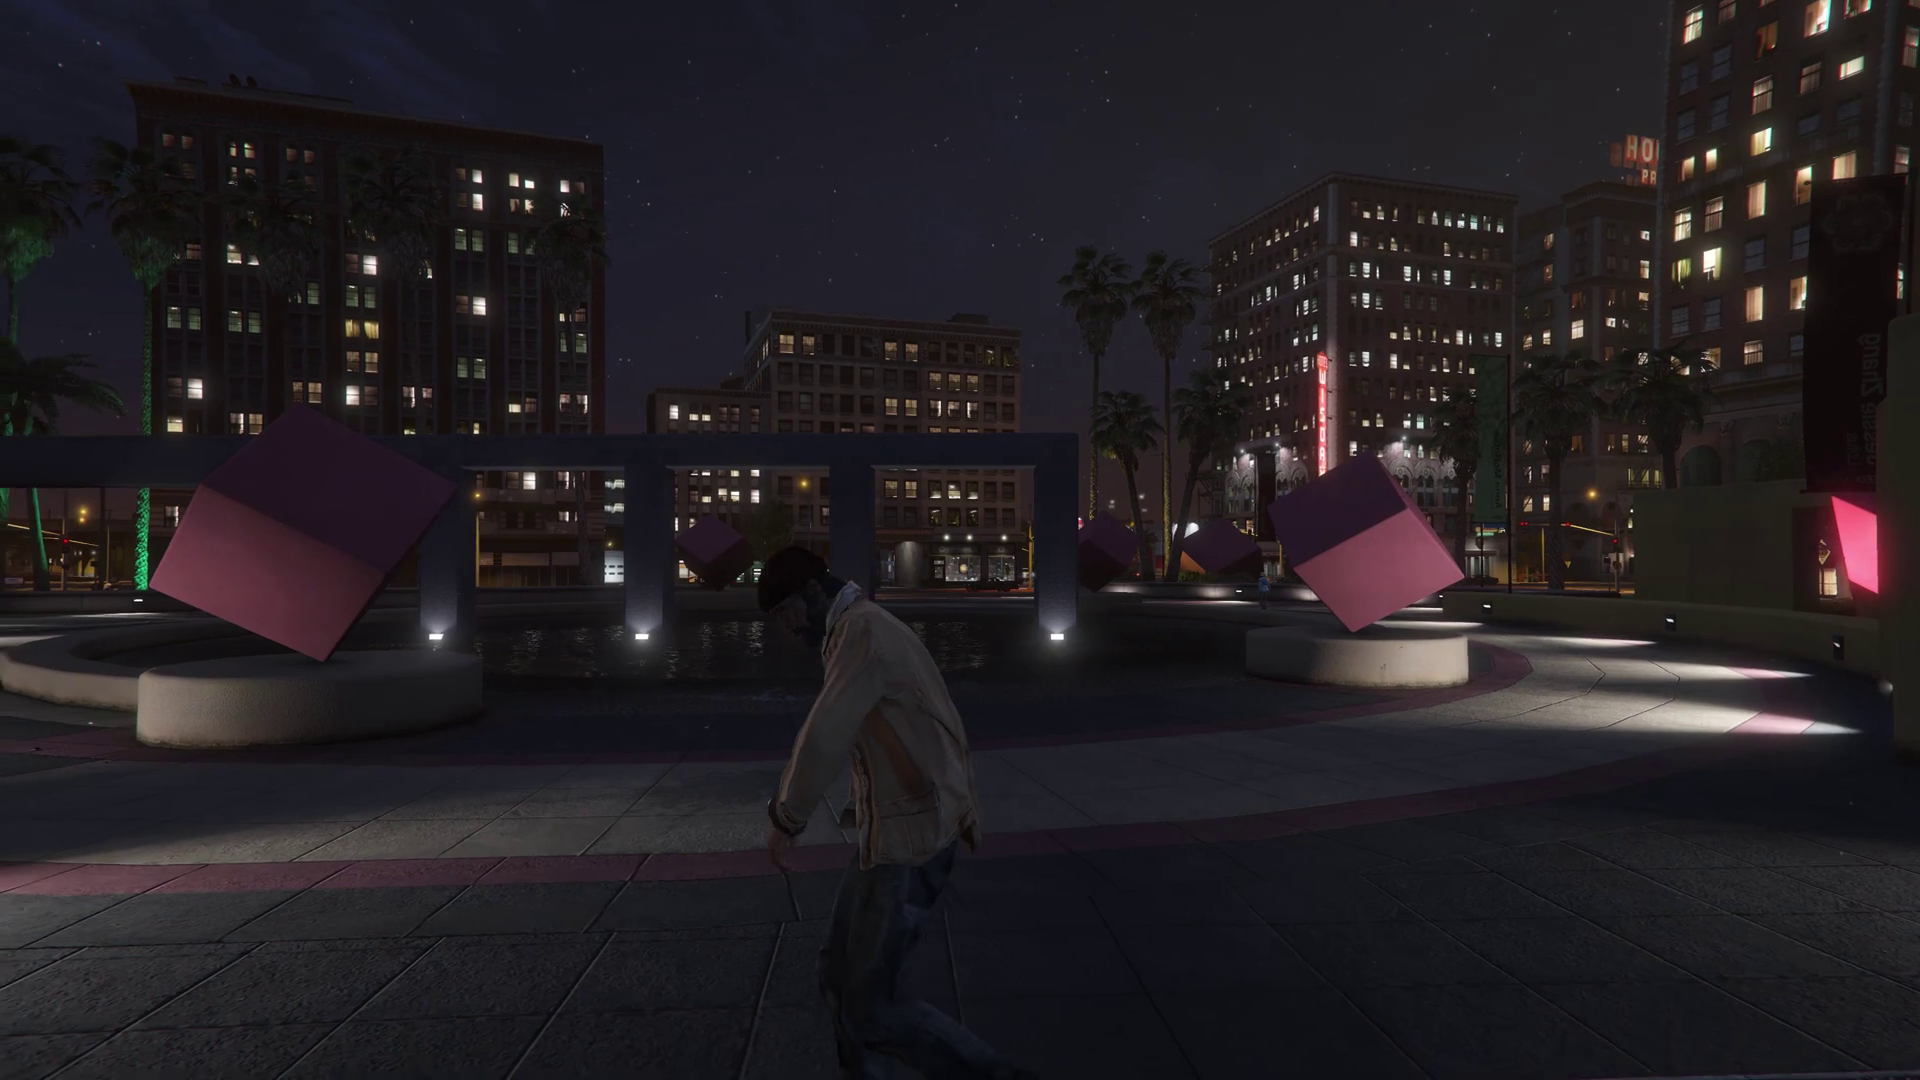person: (756, 549, 1015, 1080)
